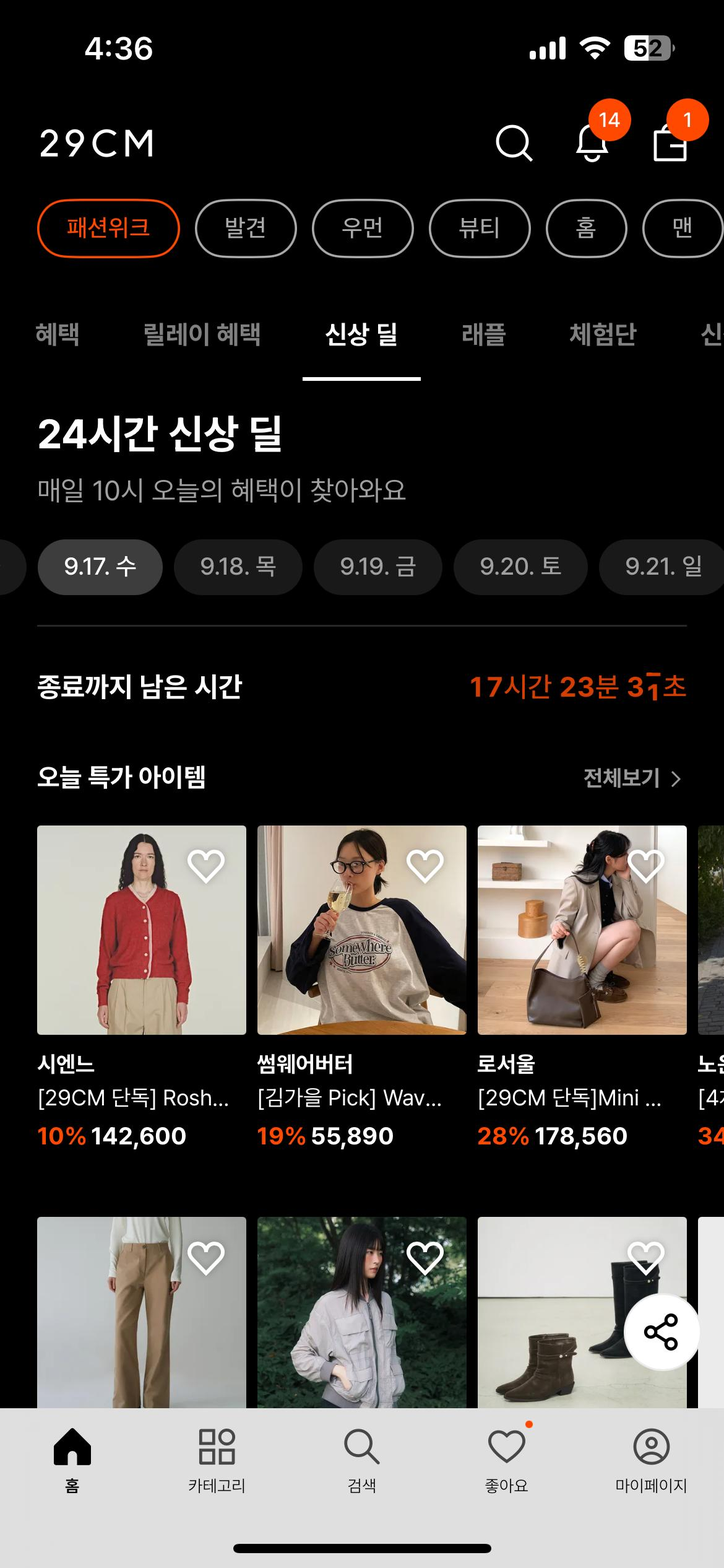button: (39, 194, 179, 260), (616, 1291, 706, 1373), (610, 1422, 698, 1501), (453, 542, 585, 594), (309, 196, 421, 254), (194, 198, 305, 256), (569, 87, 637, 180), (39, 545, 162, 596), (603, 546, 723, 595), (186, 1416, 255, 1498), (43, 1416, 107, 1500), (435, 200, 528, 256), (129, 317, 268, 354), (318, 547, 435, 590), (485, 103, 547, 184), (641, 199, 723, 259), (482, 1417, 541, 1500), (650, 95, 705, 178), (547, 201, 628, 256), (332, 1421, 386, 1502), (578, 759, 685, 797), (186, 548, 292, 586), (23, 309, 93, 356), (313, 319, 404, 354), (440, 322, 521, 352), (562, 321, 640, 349)
